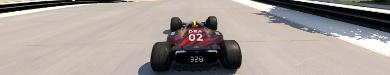Car: (150, 15, 242, 71)
